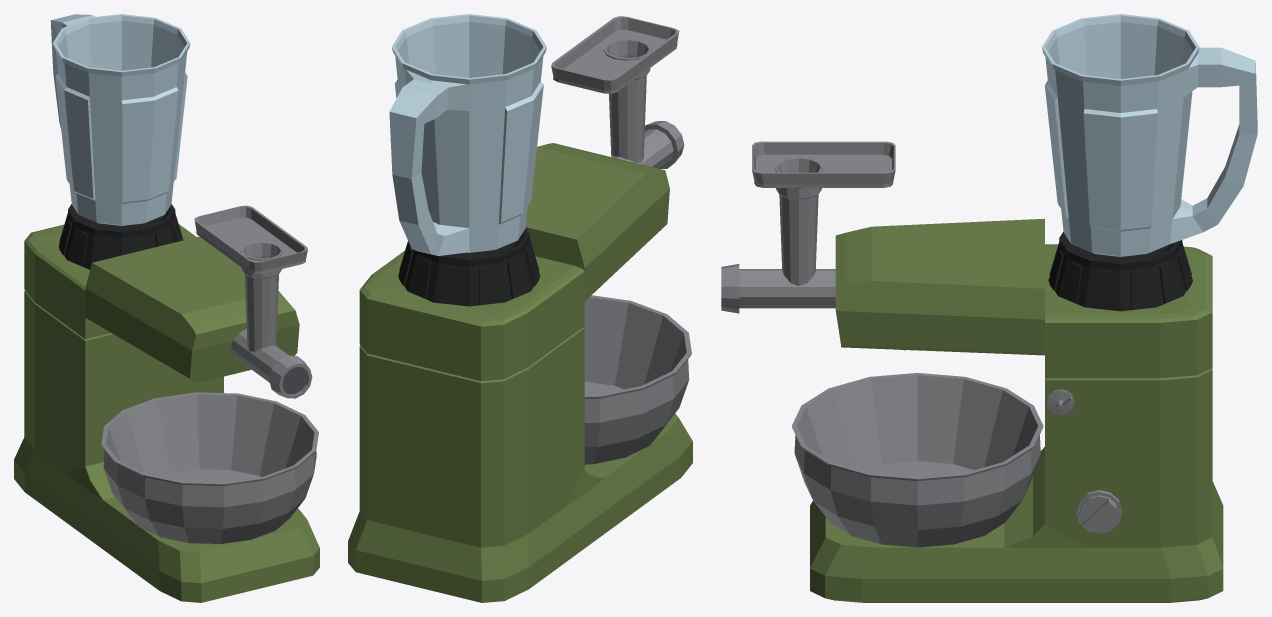
File: foodprocessor_01_B.gltf
3 views of the same model, side by side, from view 1: azimuth 30°, elevation 25°; view 2: azimuth 150°, elevation 25°; view 3: azimuth 270°, elevation 25° (orthographic). The views are drawn at different scales.
Visible parts, largest first — view 1: foodprocessor_01_B, Plateforfoodprocessor_01_B, blenderforfoodprocessor_01_B; view 2: foodprocessor_01_B, blenderforfoodprocessor_01_B, Plateforfoodprocessor_01_B; view 3: foodprocessor_01_B, blenderforfoodprocessor_01_B, Plateforfoodprocessor_01_B, Switchforfoodprocessor_02_B.
Part boxes in pixels (x1,y1,x2,y2): foodprocessor_01_B: [14, 204, 319, 602]; Plateforfoodprocessor_01_B: [101, 392, 318, 543]; blenderforfoodprocessor_01_B: [50, 14, 190, 225]; foodprocessor_01_B: [348, 16, 692, 602]; blenderforfoodprocessor_01_B: [389, 14, 546, 255]; Plateforfoodprocessor_01_B: [583, 295, 691, 464]; foodprocessor_01_B: [721, 141, 1223, 602]; blenderforfoodprocessor_01_B: [1042, 14, 1257, 256]; Plateforfoodprocessor_01_B: [792, 373, 1043, 547]; Switchforfoodprocessor_02_B: [1076, 490, 1122, 533].
Bounding box in the file's own units: 0.2179 × 0.4952 × 0.4639.
1 material, 1 textured.
